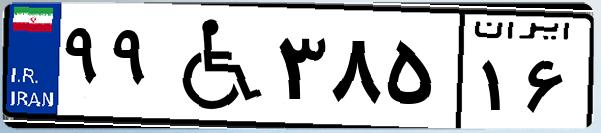1: (475, 38, 525, 113)
3: (270, 28, 330, 110)
5: (385, 28, 445, 110)
6: (525, 38, 570, 115)
8: (330, 28, 385, 110)
9: (57, 26, 110, 100), (110, 28, 158, 98)
ژ (معلولین و جانبازان): (158, 12, 270, 120)
